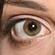eye: (24, 20, 40, 36)
